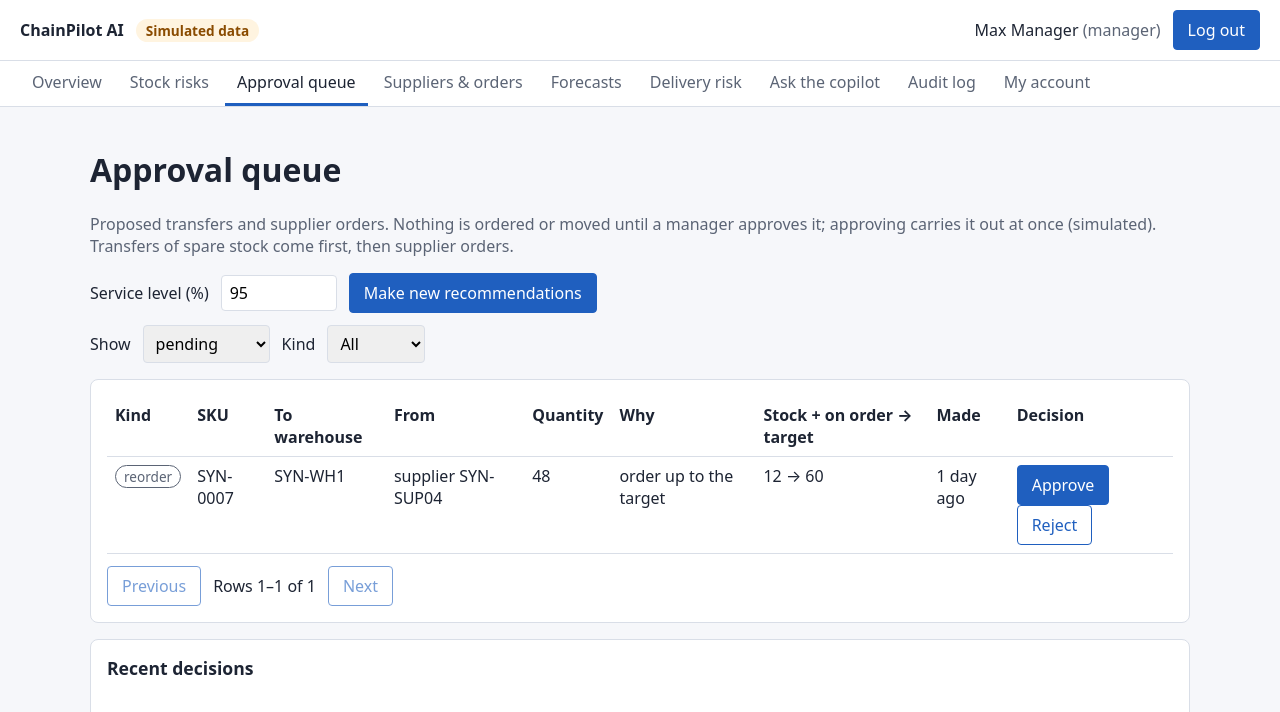
approval queue › shows a failed execution as a problem
Click the button "Approve".
click(1063, 485)  # box 1017,465 -> 1109,505
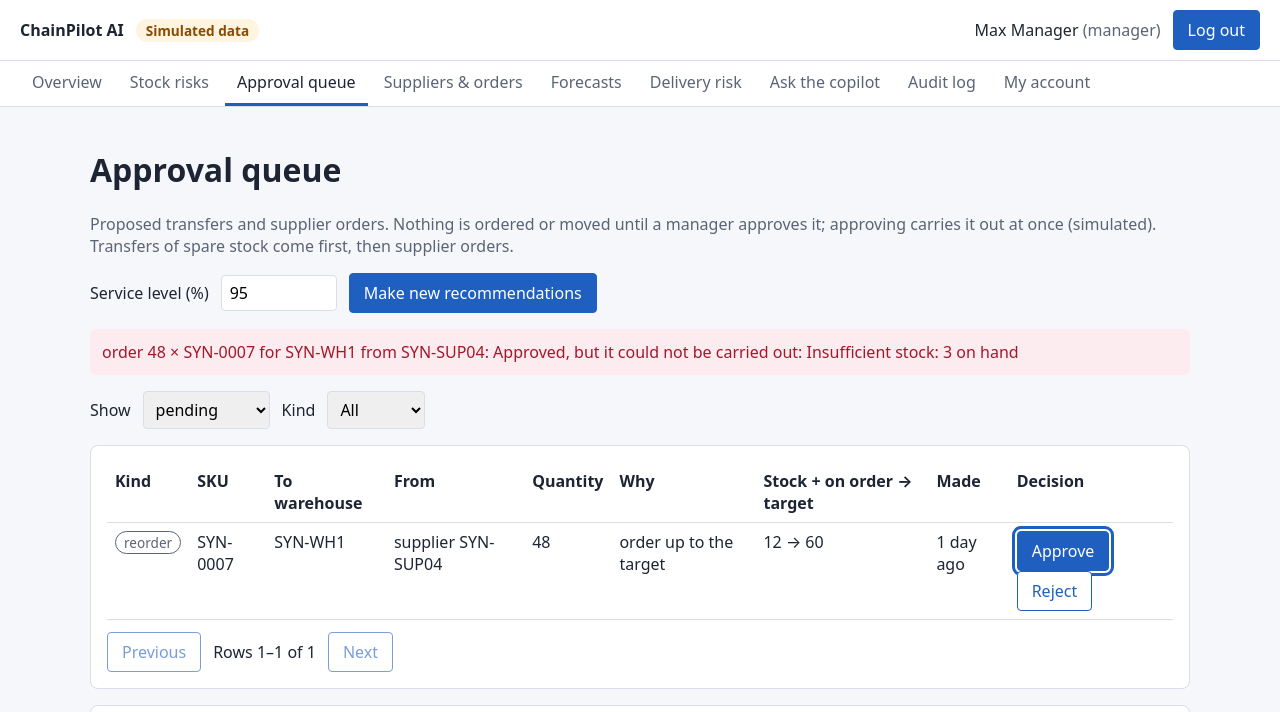
Now the message shows "Approved, but it could not be carried out: Insufficient stock: 3 on hand", box 102,341 -> 1019,363
